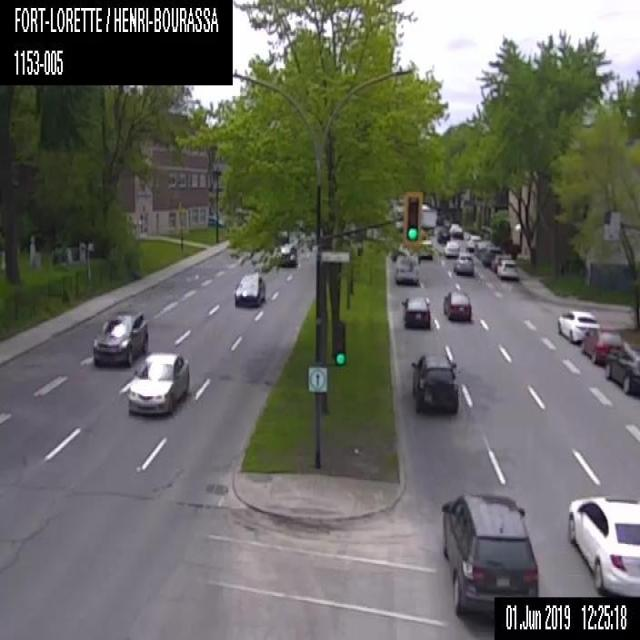vehicle: (438, 487, 538, 625), (566, 491, 639, 596), (128, 350, 189, 416), (410, 349, 458, 415), (91, 310, 148, 364), (606, 344, 639, 399), (556, 306, 600, 341), (582, 326, 622, 364), (233, 272, 266, 309), (400, 293, 431, 328), (392, 250, 421, 286), (441, 288, 472, 321), (274, 240, 297, 267), (452, 252, 475, 276), (415, 235, 434, 261), (420, 202, 435, 234), (497, 259, 518, 279), (479, 245, 503, 262), (490, 252, 511, 268), (474, 239, 490, 257), (464, 232, 480, 250), (442, 241, 459, 256), (437, 228, 451, 242), (452, 226, 462, 238)
